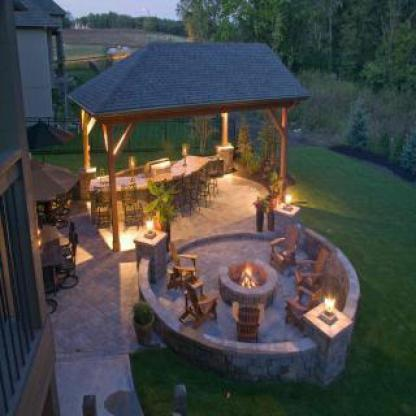fire: (236, 263, 262, 295)
